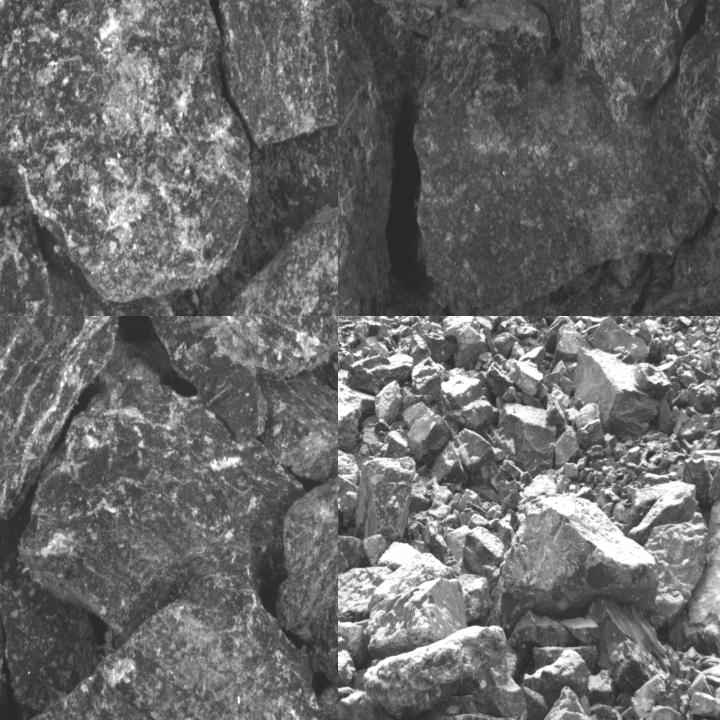stone: (412, 0, 708, 315), (16, 336, 305, 634), (0, 0, 249, 303), (6, 570, 337, 719), (0, 316, 137, 532), (139, 316, 337, 435), (492, 490, 658, 624), (201, 0, 337, 143), (338, 0, 398, 315), (527, 0, 714, 101), (212, 189, 337, 315), (0, 549, 96, 708), (363, 626, 526, 719), (276, 461, 337, 687), (258, 369, 337, 480), (672, 473, 719, 657), (368, 578, 468, 658), (573, 349, 655, 442), (649, 513, 710, 632), (591, 602, 682, 681), (604, 258, 719, 315), (353, 458, 413, 538), (494, 401, 556, 474), (373, 555, 453, 607), (433, 428, 496, 484), (437, 372, 495, 430), (338, 565, 393, 623), (590, 316, 649, 365), (344, 352, 413, 392), (408, 408, 452, 466), (443, 316, 486, 372), (535, 692, 622, 719), (508, 614, 572, 648), (338, 379, 364, 459), (683, 449, 719, 504), (456, 572, 490, 624), (462, 527, 505, 567), (410, 357, 448, 397), (573, 402, 604, 450), (506, 361, 545, 396), (379, 538, 423, 568), (555, 326, 589, 364), (635, 362, 668, 400), (338, 538, 364, 580), (373, 382, 401, 421), (560, 616, 600, 642), (691, 377, 719, 413), (544, 387, 570, 425), (555, 426, 579, 465), (422, 519, 446, 555), (692, 690, 719, 719), (705, 447, 719, 501), (338, 685, 355, 717)
